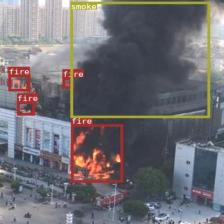fire: (71, 124, 122, 182), (8, 75, 30, 90), (16, 101, 34, 115), (62, 76, 72, 88)
smoke: (70, 1, 209, 117)
